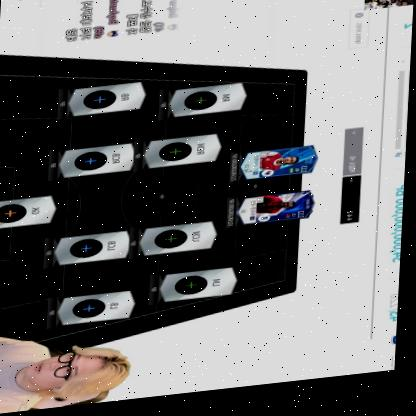streamer: (0, 318, 138, 416)
